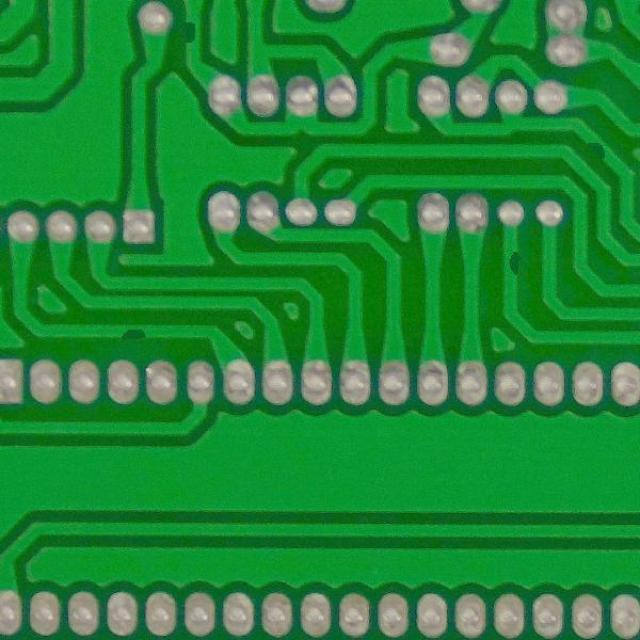MouseBite: (109, 320, 156, 345), (498, 244, 528, 283), (582, 134, 614, 166), (179, 15, 207, 51)
